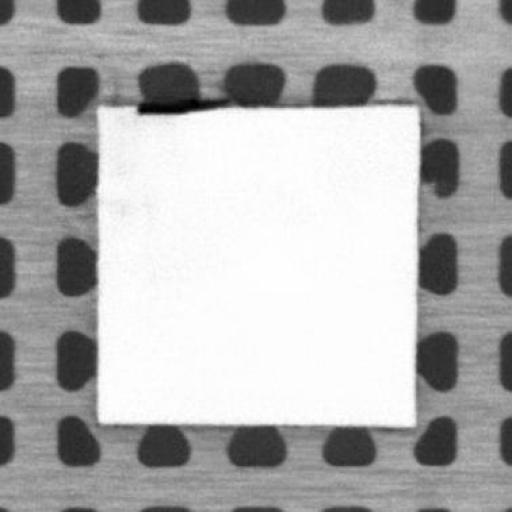DIE_BROKEN: (132, 97, 228, 115)
